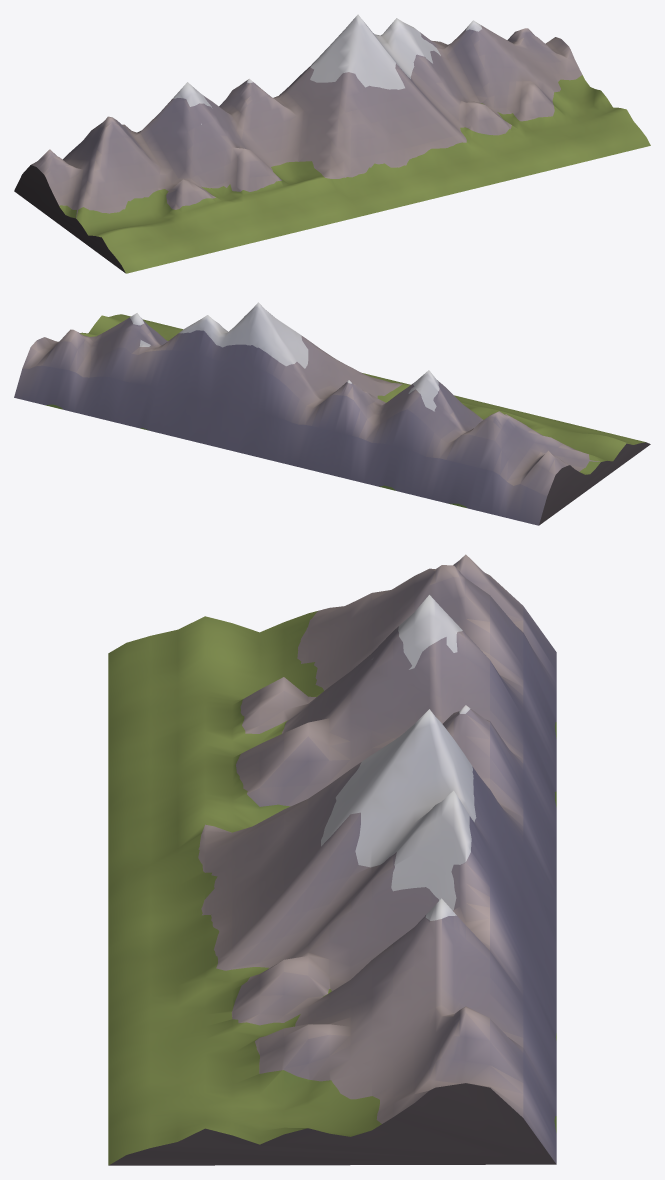
The model's file is MountainRange1.fbx.
The picture shows the model from 3 angles, top to bottom: view 1: azimuth 30°, elevation 25°; view 2: azimuth 150°, elevation 25°; view 3: azimuth 270°, elevation 25°; orthographic projection. The views are drawn at different scales.
Visible parts, largest first — view 1: MountainRange1; view 2: MountainRange1; view 3: MountainRange1.
Part boxes in pixels (x1,y1,x2,y2): MountainRange1: (14, 14, 650, 273); MountainRange1: (14, 302, 650, 525); MountainRange1: (108, 554, 556, 1165).
Size of the model in its own units: 400 by 90.8 by 148.
